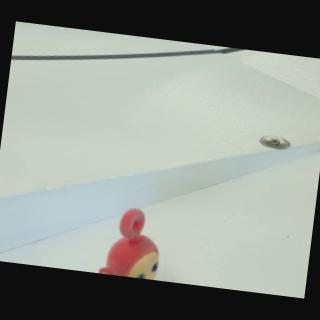teletubby: (99, 208, 158, 280)
